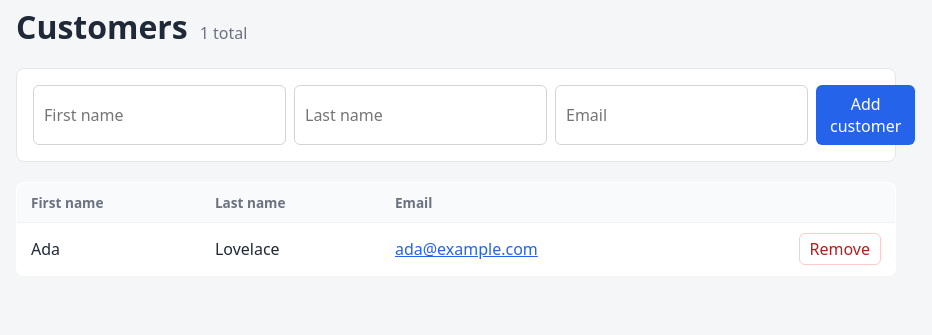
Test: lists, adds and removes customers
Expected: the text "Lovelace" is shown, left=201, top=222, right=381, bottom=276
In the field labelled "First name": [160, 115] box left=33, top=85, right=286, bottom=145, type "Grace"
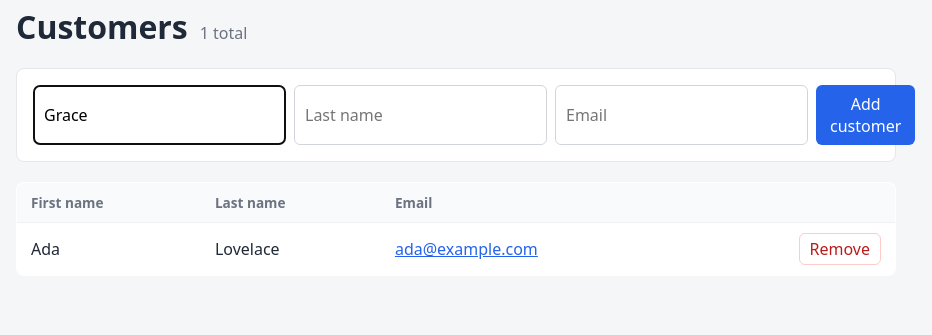
In the field labelled "Last name": [420, 115] box left=294, top=85, right=547, bottom=145, type "Hopper"
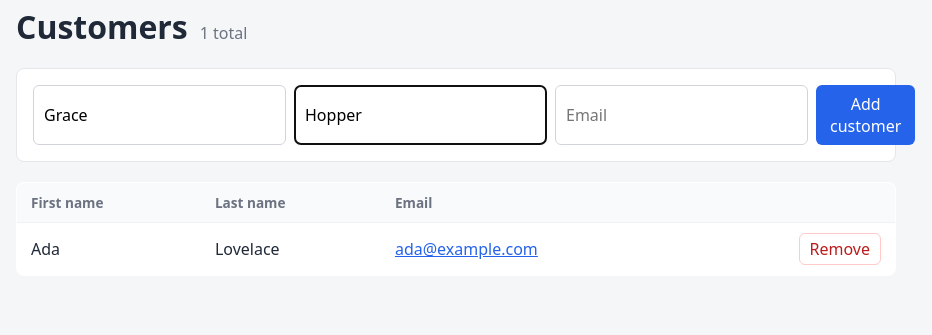
In the field labelled "Email": [682, 115] box left=555, top=85, right=808, bottom=145, type "grace@example.com"
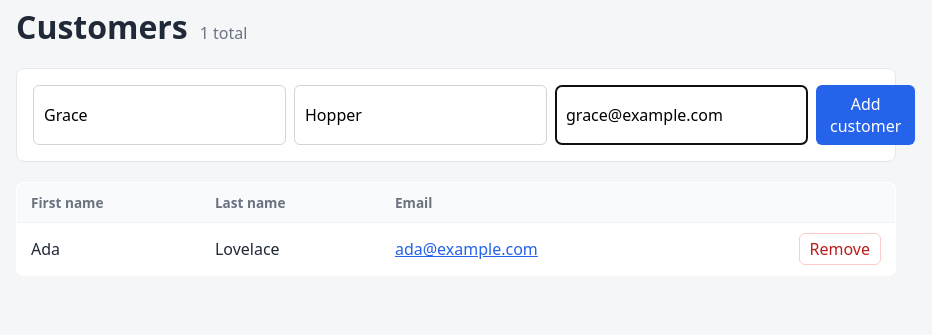
Click the button "Add customer": [866, 115] box left=816, top=85, right=915, bottom=145
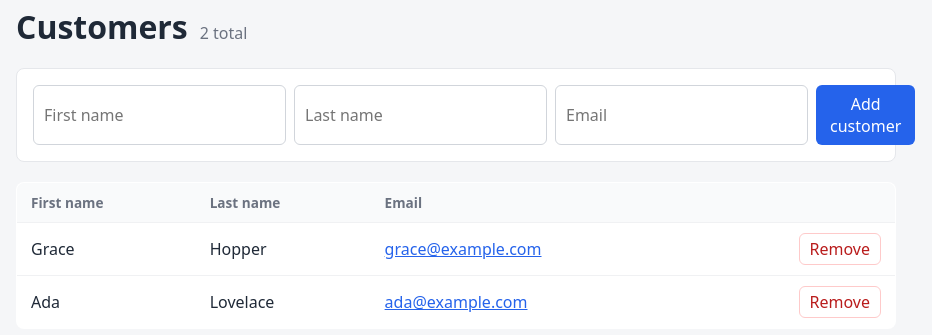
Expected: the text "Hopper" is shown, left=196, top=222, right=371, bottom=276
Click the button with aria-label "Remove Ada Lovelace": [840, 302] box left=798, top=286, right=881, bottom=318
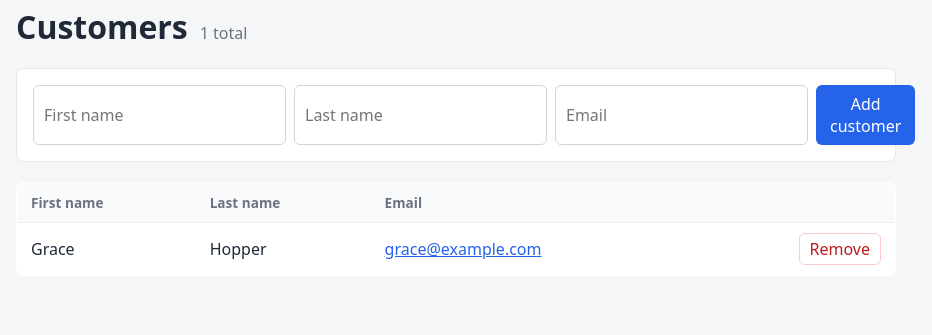
Expected: the text "Lovelace" is gone
